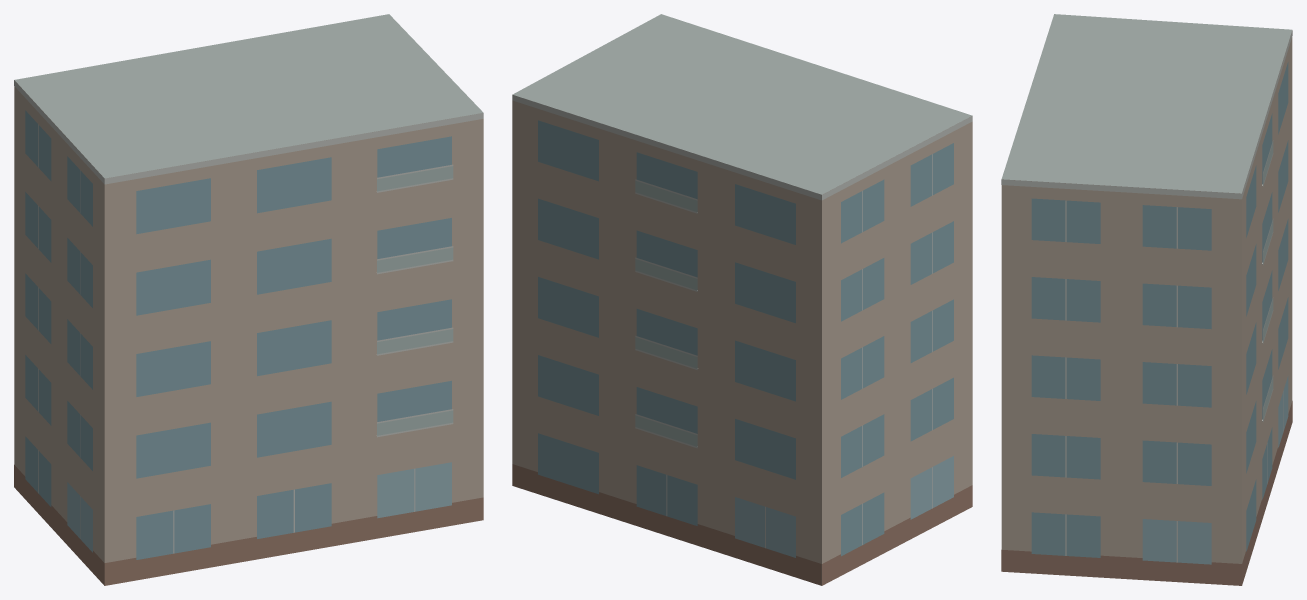
Rendered from survey-upis-32902287.glb.
3 views of the same model, side by side, from view 1: azimuth 30°, elevation 25°; view 2: azimuth 150°, elevation 25°; view 3: azimuth 270°, elevation 25° (orthographic). The views are drawn at different scales.
Visible parts, largest first — view 1: survey-upis-32902287.tmp; view 2: survey-upis-32902287.tmp; view 3: survey-upis-32902287.tmp.
Part boxes in pixels (<box>): survey-upis-32902287.tmp: <box>14,14,483,585</box>; survey-upis-32902287.tmp: <box>512,14,972,585</box>; survey-upis-32902287.tmp: <box>1001,14,1292,585</box>.
Bounding box in the file's own units: 16.3 × 16.6 × 11.17.
